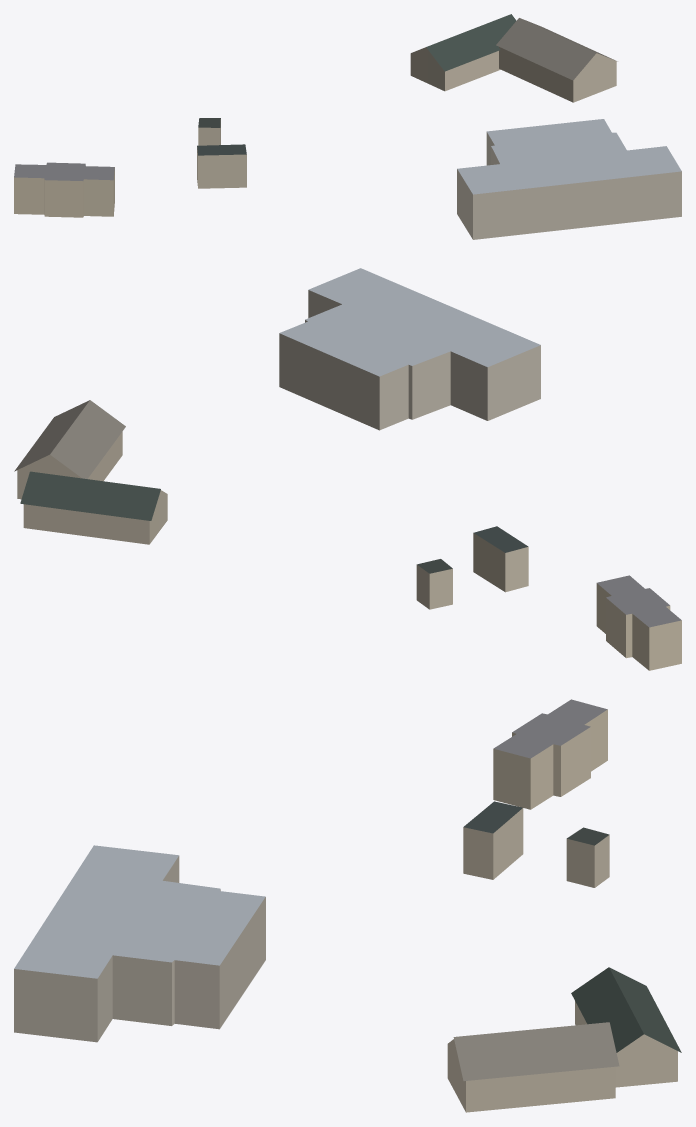
3 renders of one model, top to bottom at view 1: azimuth 30°, elevation 25°; view 2: azimuth 150°, elevation 25°; view 3: azimuth 270°, elevation 25°, orthographic. The views are drawn at different scales.
Parts seen in each view (by area): view 1: tuile; view 2: tuile; view 3: tuile.
Part boxes in pixels (left/top/right/bottom): tuile: left=14, top=14, right=681, bottom=239; tuile: left=14, top=268, right=681, bottom=670; tuile: left=14, top=699, right=681, bottom=1112.
Bounding box in the file's own units: 97.82 × 12.11 × 71.09.
